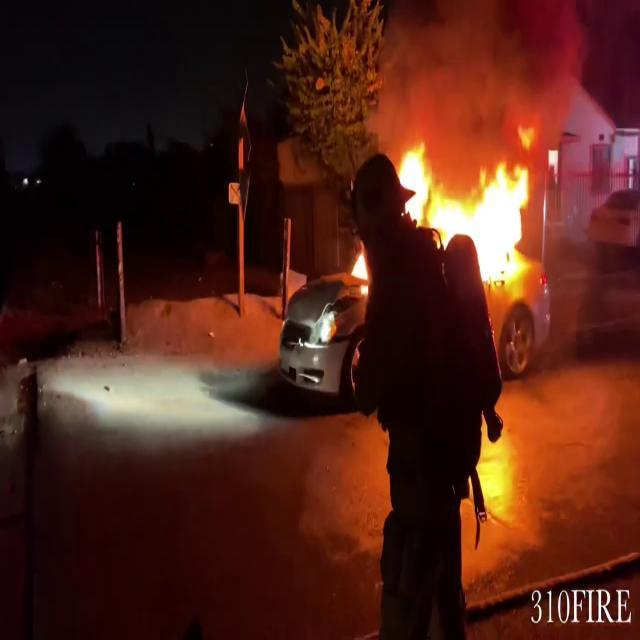Fire: (394, 126, 537, 292), (348, 243, 373, 294)
Smoke: (373, 0, 592, 145)
